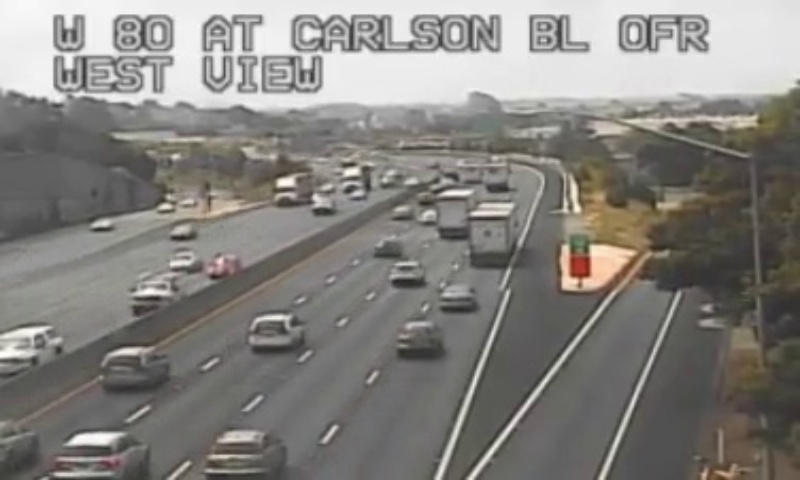car: (51, 431, 148, 478), (204, 429, 287, 480), (100, 346, 165, 387), (248, 312, 302, 348), (397, 322, 440, 352), (439, 285, 475, 312), (388, 260, 424, 284)
truck: (468, 200, 514, 263), (434, 187, 476, 238)
